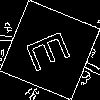E: (25, 25, 80, 74)
